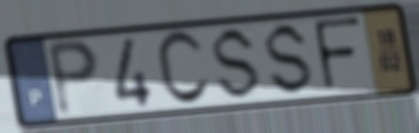4: (112, 33, 155, 111)
C: (153, 28, 213, 109)
F: (310, 15, 364, 95)
P: (44, 37, 102, 120)
S: (264, 20, 317, 99), (211, 25, 264, 103)
